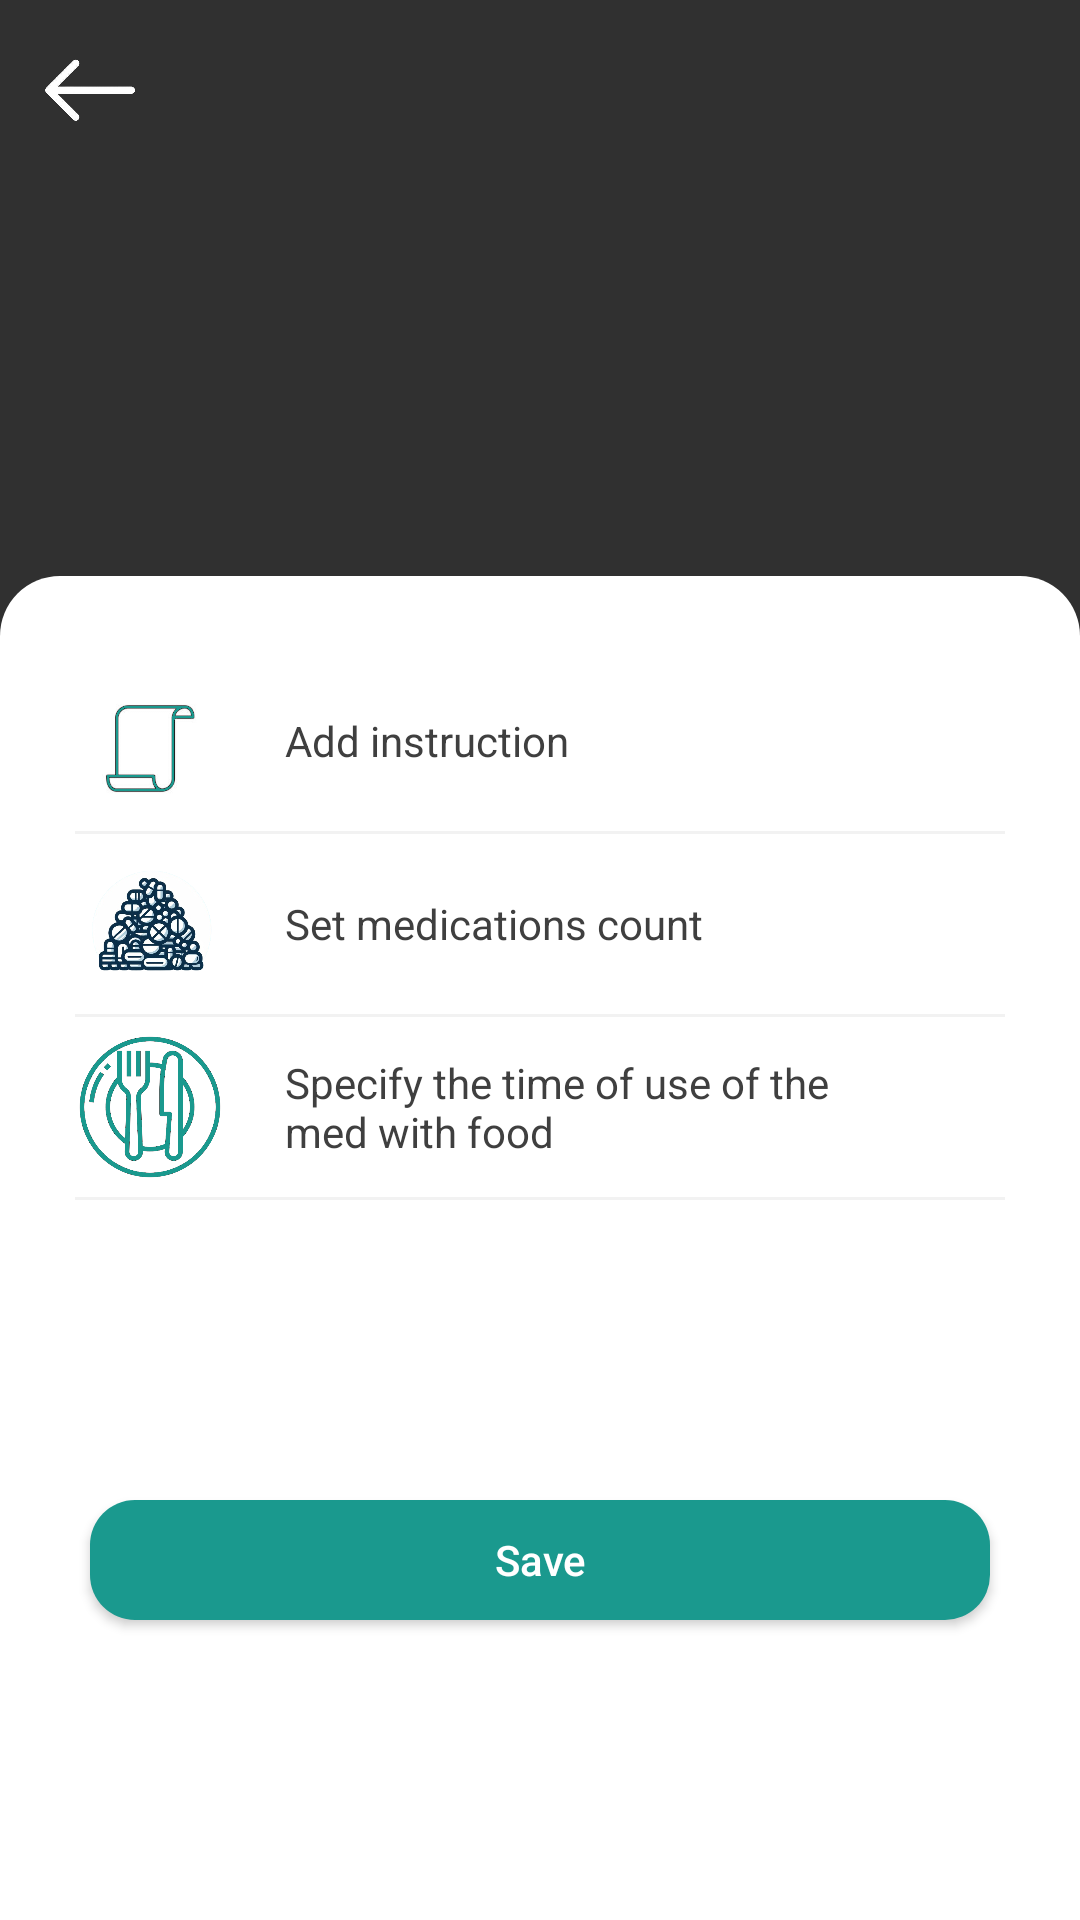

Icon bounding boxes for this 1080px x 1920px phone screenshot, format box(x1, y1, x2, y2):
back: box(45, 59, 135, 121)
many meds: box(99, 878, 204, 971)
paper: box(106, 705, 195, 792)
